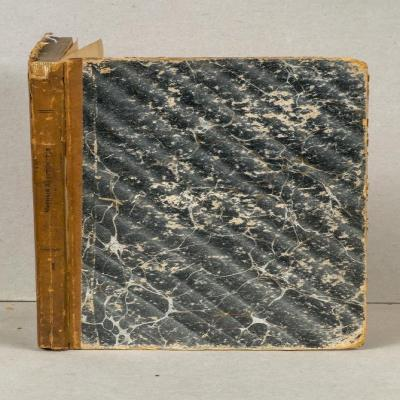rare_books: (27, 34, 370, 352)
